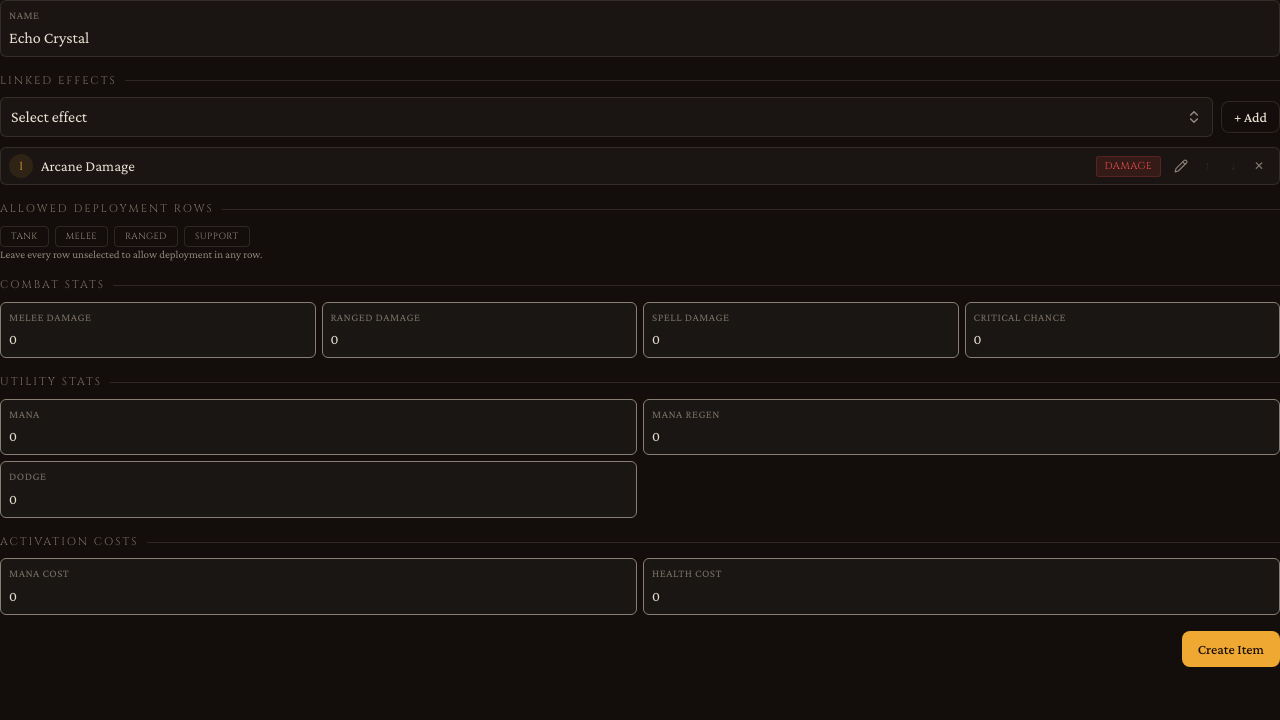
Test: ItemWorkspaceForm › offers an already linked effect again
The width and height of the screenshot is (1280, 720).
Click the dropdown with test id "item-effect-picker": (49, 116) left=0, top=97, right=1213, bottom=137
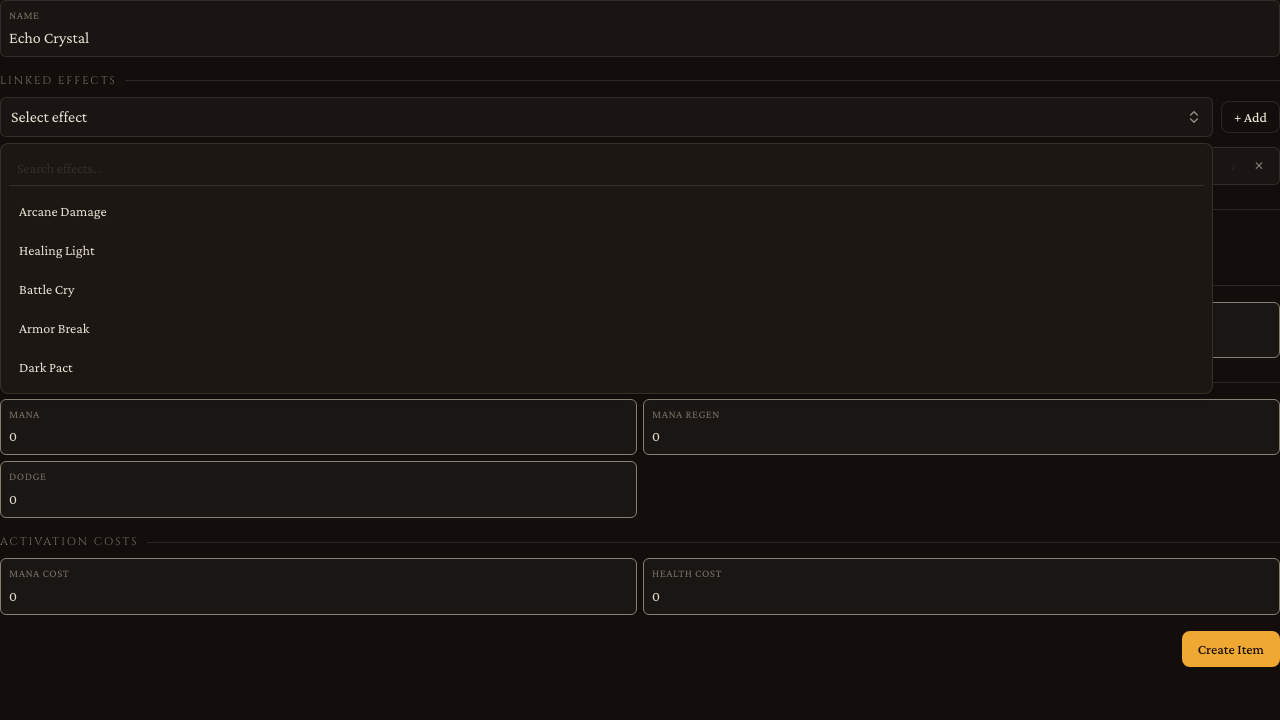
Expected: the option with test id "item-effect-picker-option-eff-1" is shown, left=9, top=194, right=1204, bottom=229
Expected: the option with test id "item-effect-picker-option-eff-2" is shown, left=9, top=233, right=1204, bottom=268
